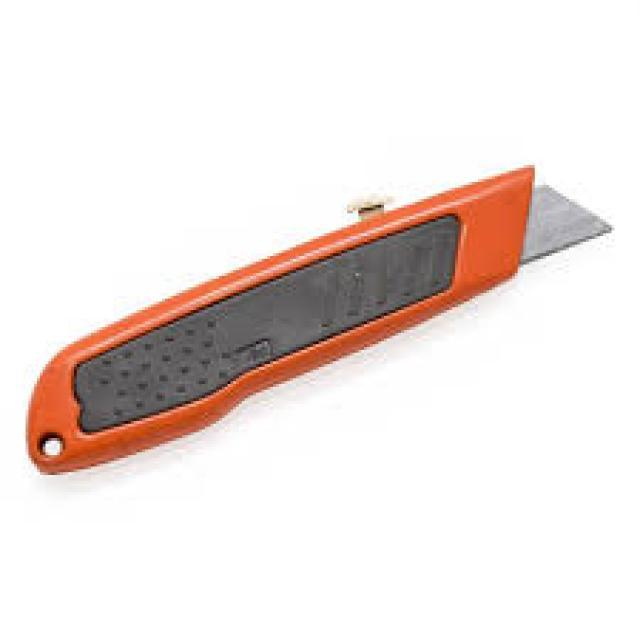cutter: (10, 162, 622, 482)
